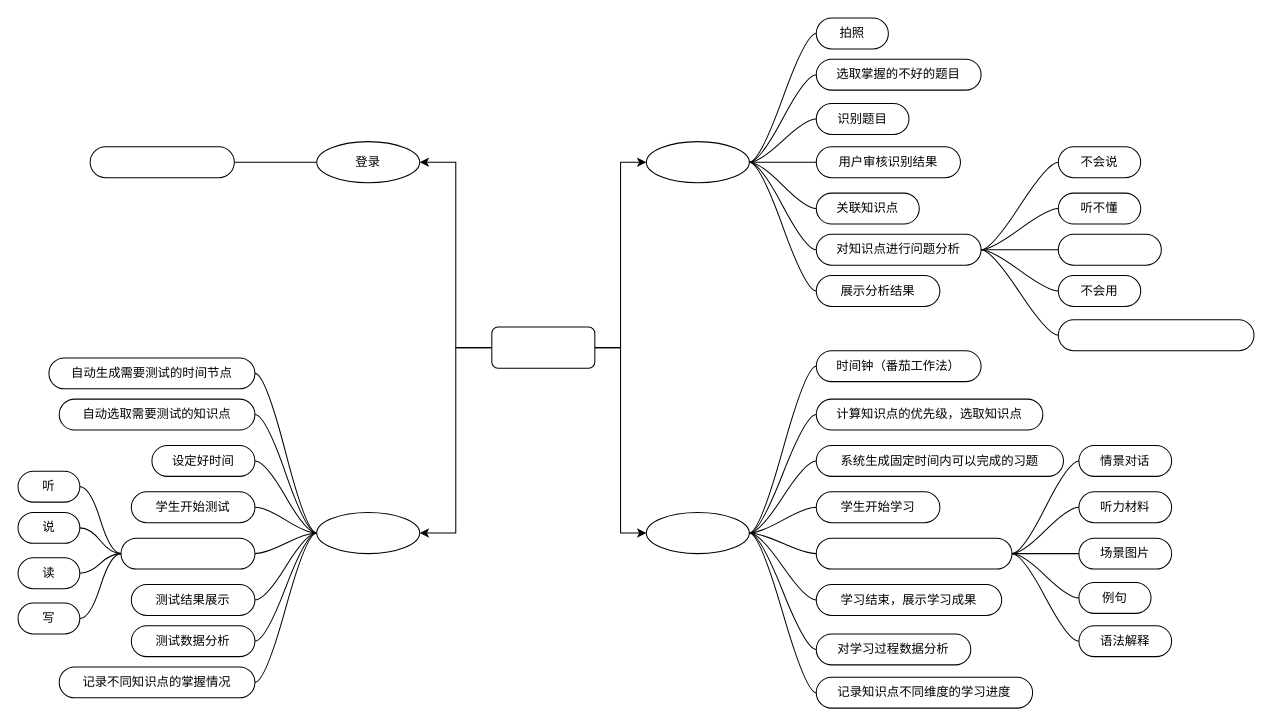
The diagram is 1272 pixels wide and 726 high, and some of its shapes have lost their labels. The shapes that lost their labels are listed below. From the top down, each one's centre as x and y in pixels, then its label:
At (x=161, y=162): "用户唯一身份识别".
At (x=697, y=162): "上传".
At (x=1109, y=249): "不明白意思".
At (x=543, y=347): "知识点".
At (x=1155, y=335): "不同语境下的语法、意义等".
At (x=368, y=532): "小测试".
At (x=697, y=532): "再学习".
At (x=187, y=553): "测试的方式选取".
At (x=913, y=553): "针对问题提供各种学习资料".
